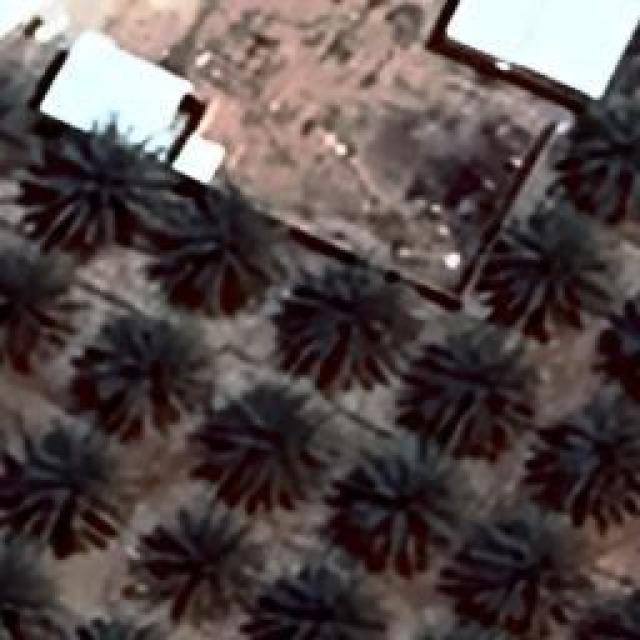PalmTree: (200, 380, 340, 512), (410, 324, 540, 458), (7, 415, 135, 550), (490, 198, 620, 330), (132, 500, 266, 628), (84, 312, 218, 438), (278, 270, 422, 385), (39, 130, 182, 245), (448, 510, 582, 632), (347, 432, 465, 566), (530, 400, 638, 526), (162, 194, 272, 308), (250, 547, 388, 635), (0, 240, 88, 365), (575, 88, 640, 210), (0, 542, 62, 640), (594, 298, 640, 403), (0, 65, 37, 176), (578, 589, 640, 640), (69, 615, 167, 640), (406, 615, 504, 640)
